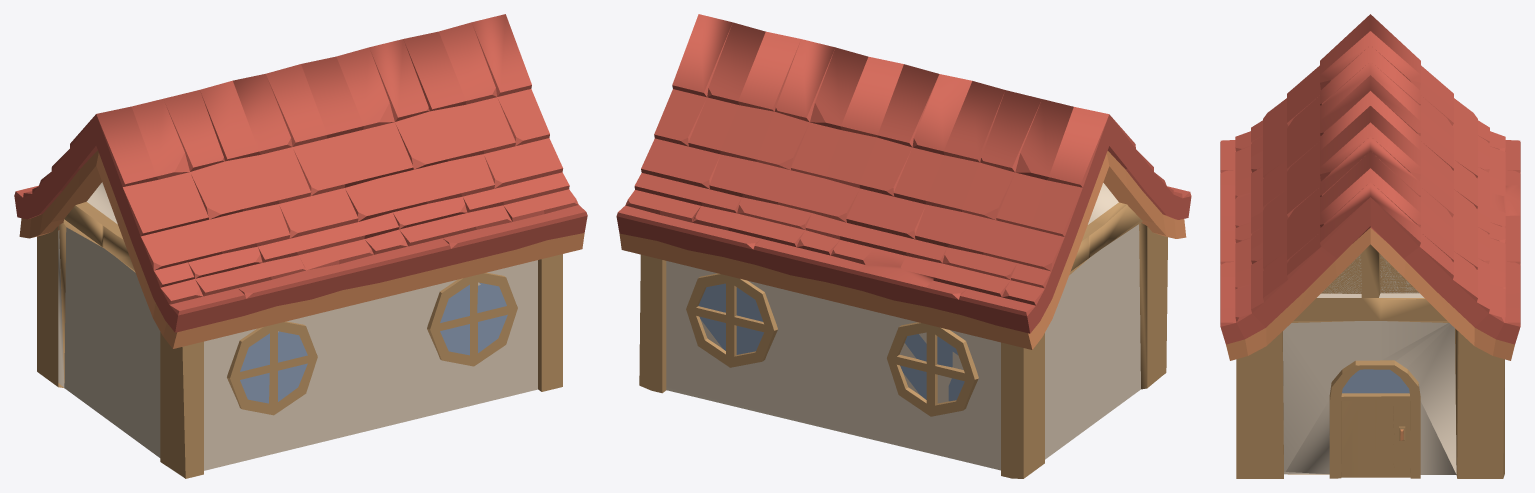
File: house.fbx
3 views of the same model, side by side, from view 1: azimuth 30°, elevation 25°; view 2: azimuth 150°, elevation 25°; view 3: azimuth 270°, elevation 25° (orthographic). The views are drawn at different scales.
Visible parts, largest first — view 1: Cube.001, Cube.005; view 2: Cube.001, Cube.005; view 3: Cube.001, Cube.005, Cube.002.
Boxes of the visible parts, x1,y1,x2,y2 form: Cube.001: [14, 14, 587, 348]; Cube.005: [37, 182, 562, 478]; Cube.001: [616, 14, 1191, 349]; Cube.005: [639, 183, 1167, 478]; Cube.001: [1220, 14, 1520, 360]; Cube.005: [1236, 244, 1504, 478]; Cube.002: [1329, 360, 1420, 478].
Size of the model in its own units: 899 by 663 by 623.
